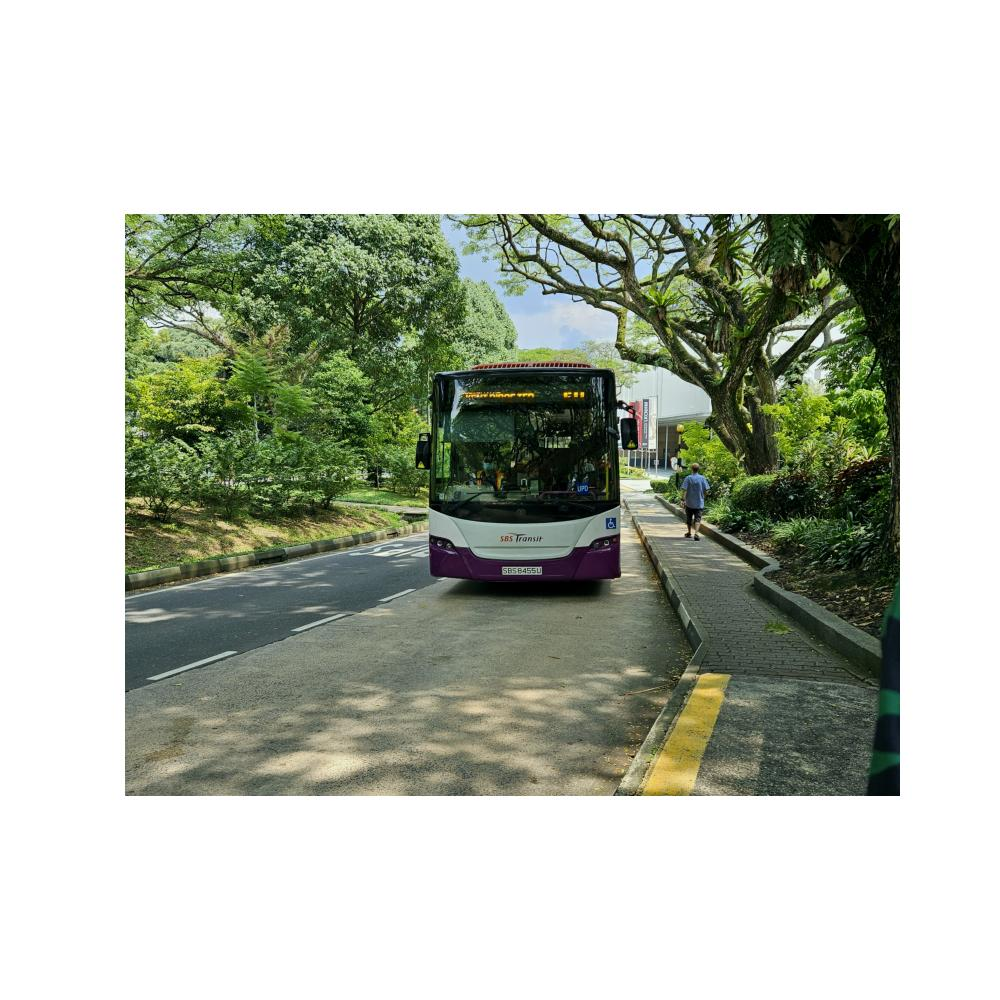bus: (411, 362, 639, 600)
